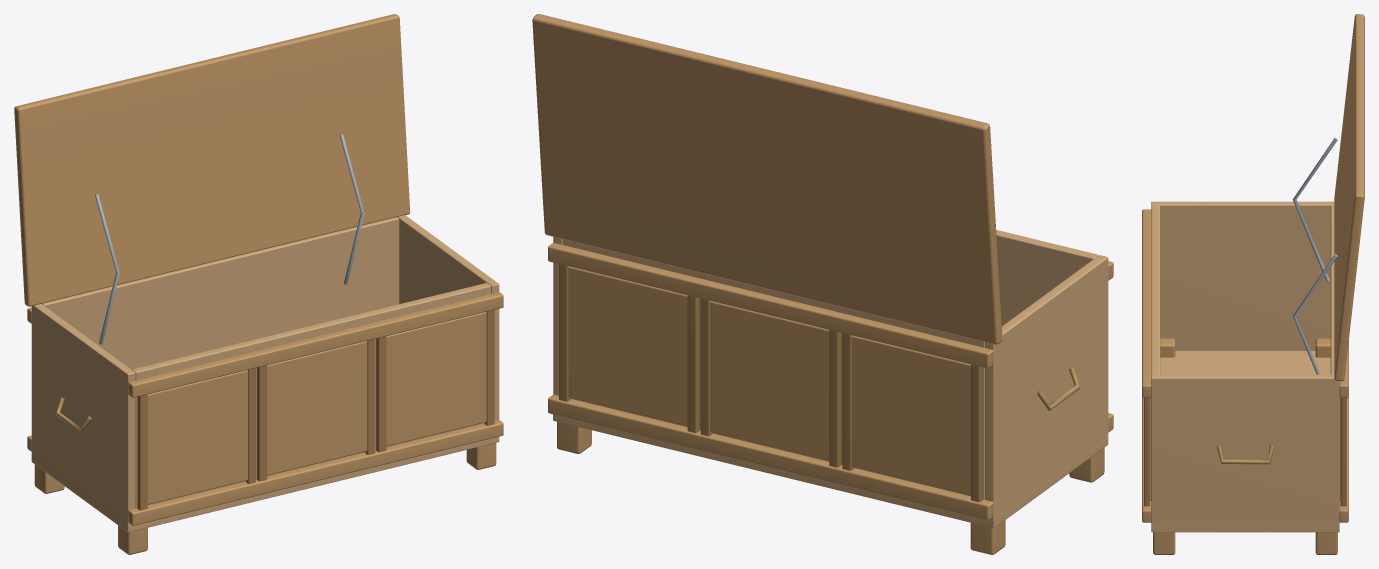
Rendered from blanket-chest.glb.
The picture shows the model from 3 angles, left to right: view 1: azimuth 30°, elevation 25°; view 2: azimuth 150°, elevation 25°; view 3: azimuth 270°, elevation 25°; orthographic projection. The views are drawn at different scales.
Parts seen in each view (by area): view 1: catalog_surface_RealismUV; view 2: catalog_surface_RealismUV; view 3: catalog_surface_RealismUV.
Part boxes in pixels (x1,y1,x2,y2): catalog_surface_RealismUV: [14, 14, 503, 554]; catalog_surface_RealismUV: [532, 14, 1113, 554]; catalog_surface_RealismUV: [1142, 14, 1364, 554].
Bounding box in the file's own units: 1.12 × 1.01 × 0.56.
